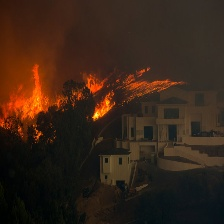fire: (6, 65, 183, 141)
